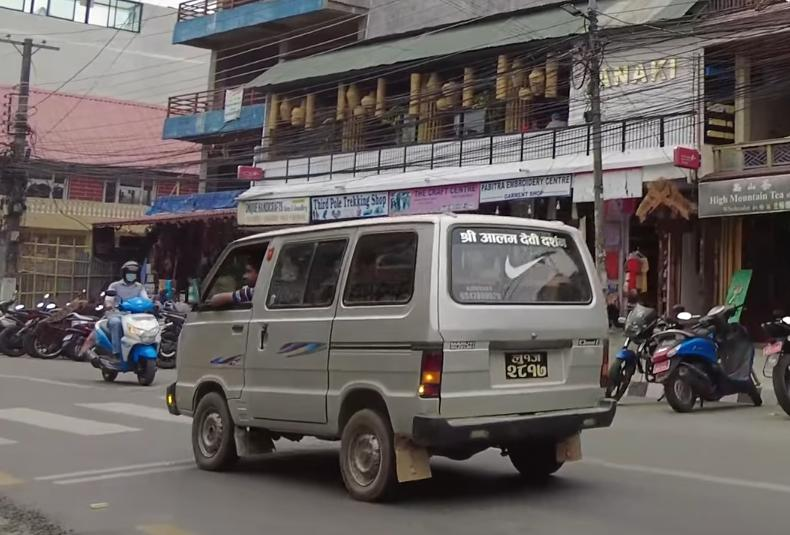scooter: (646, 290, 765, 416), (85, 287, 166, 393)
van: (169, 208, 628, 497)
